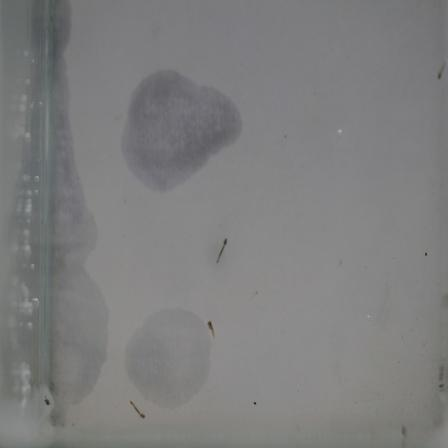Jentik-Nyamuk: (213, 234, 231, 267), (126, 395, 147, 423), (205, 316, 221, 343)
